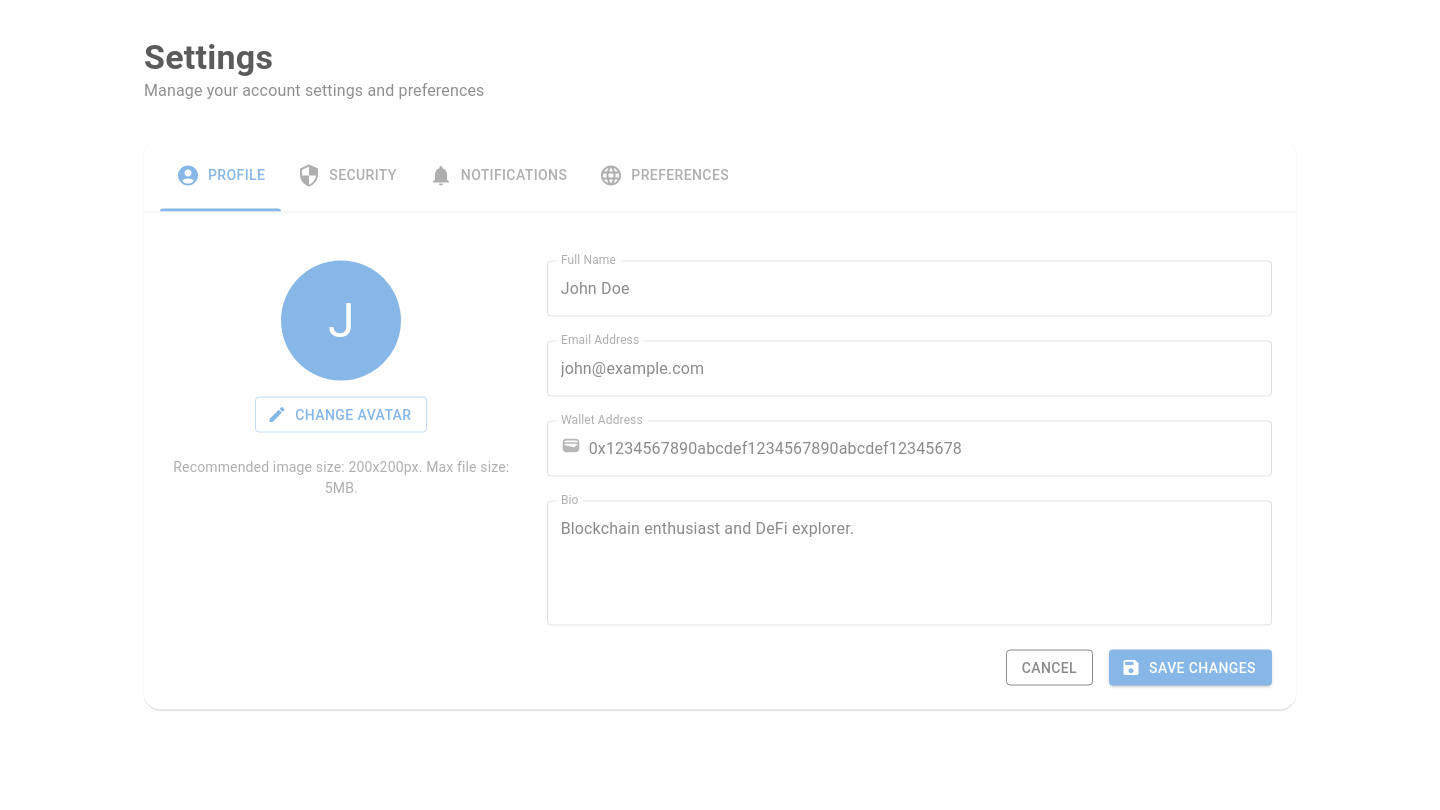
Scenario: Settings Page › switches to Notifications tab
What coordinates should you click on to do the following:
click the tab "Notifications"
I would click on:
 (498, 176)
Its box is [413,140,583,212].
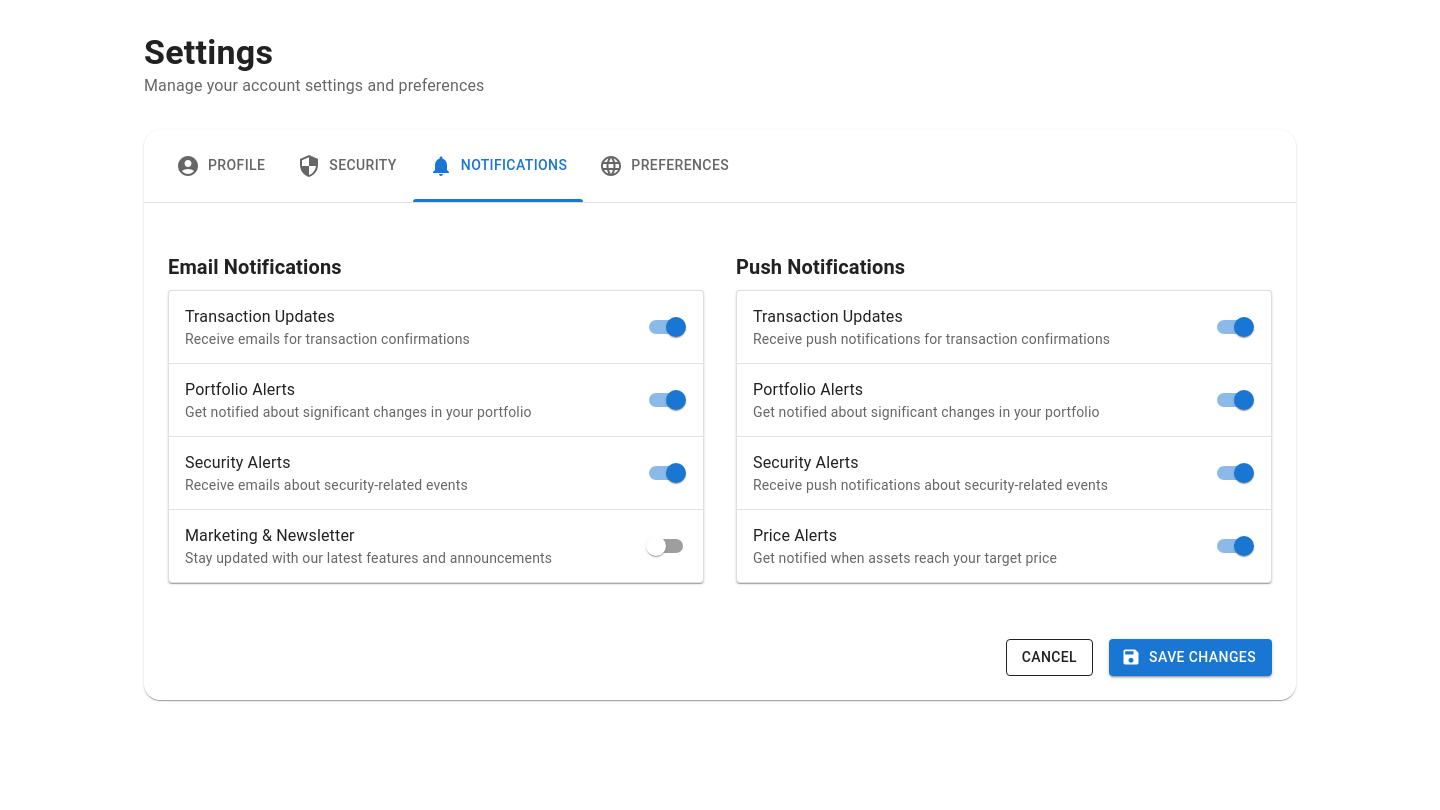
Expected: the heading "Email Notifications" is shown, [168,255,342,279]
